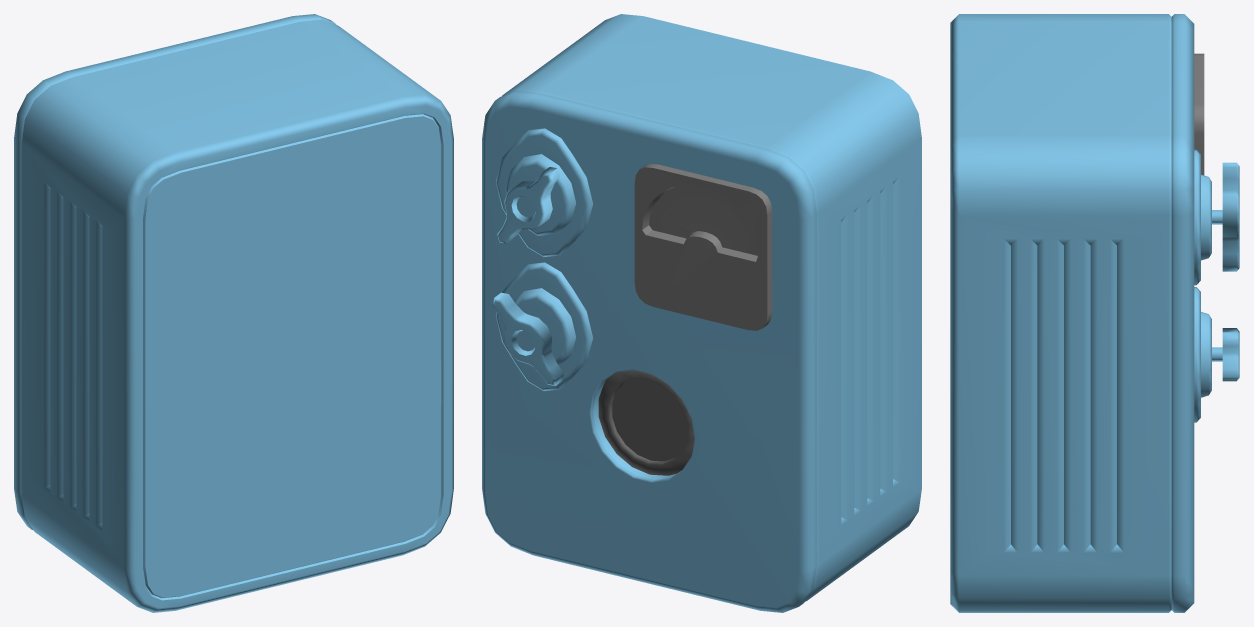
The model's file is Invertor.fbx.
3 renders of one model, left to right at view 1: azimuth 30°, elevation 25°; view 2: azimuth 150°, elevation 25°; view 3: azimuth 270°, elevation 25°, orthographic. The views are drawn at different scales.
Parts seen in each view (by area): view 1: InvertorBase; view 2: InvertorBase, Voltmeter002, PowerSocket001; view 3: InvertorBase, Voltmeter002.
Part boxes in pixels (<box>): InvertorBase: <box>14,14,453,612</box>; InvertorBase: <box>482,14,921,612</box>; Voltmeter002: <box>634,163,772,330</box>; PowerSocket001: <box>598,370,694,475</box>; InvertorBase: <box>950,14,1239,612</box>; Voltmeter002: <box>1194,53,1204,175</box>.
Bounding box in the file's own units: 39.6 × 52.64 × 29.39.
